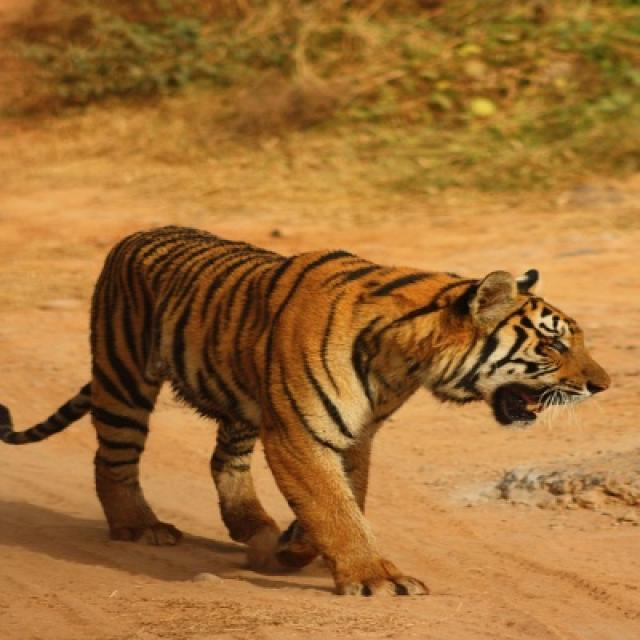Tiger: (85, 228, 608, 599)
